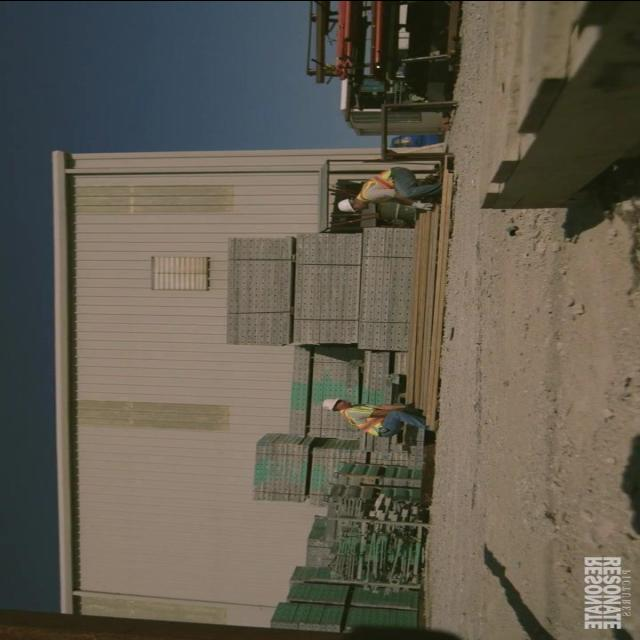helmet: (320, 394, 342, 414), (336, 196, 361, 213)
jacket: (359, 164, 398, 209), (344, 404, 386, 438)
